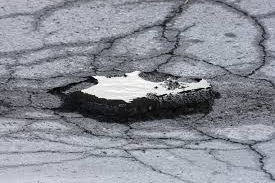pothole: (43, 71, 239, 130)
